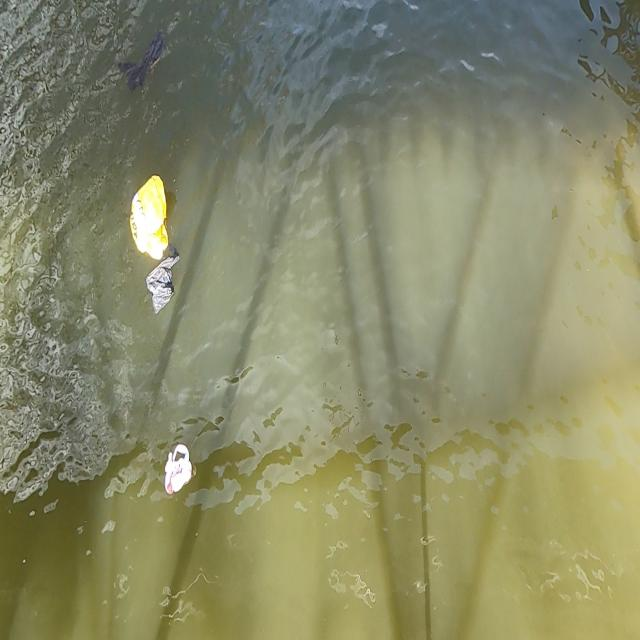Sac plastique: (122, 170, 177, 260), (119, 28, 172, 96), (139, 250, 184, 320), (156, 442, 198, 502)
